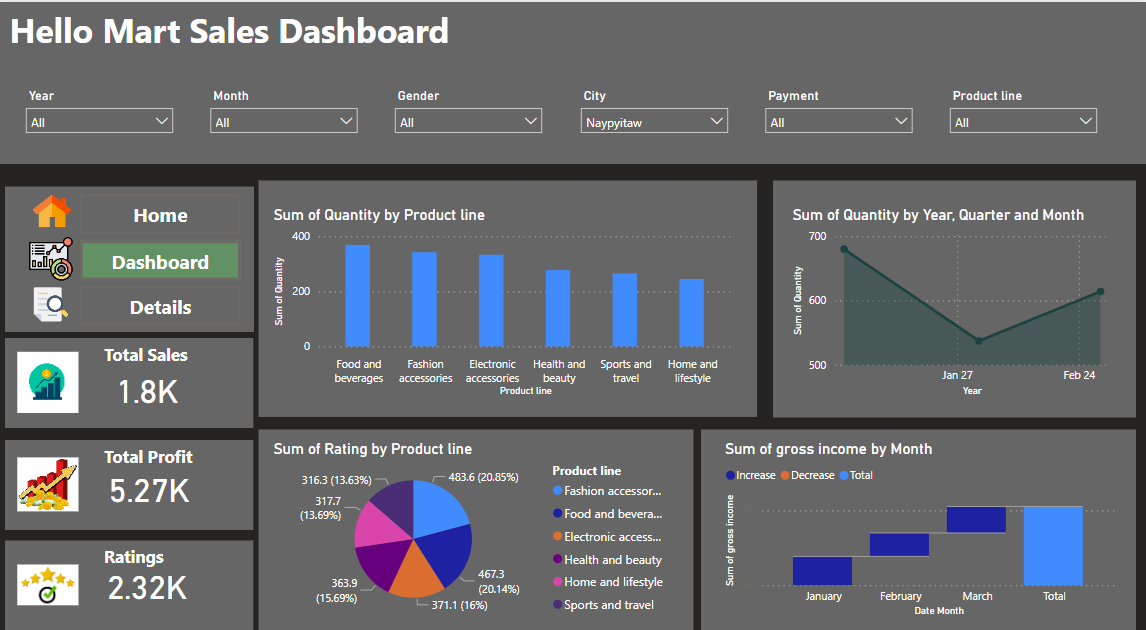

The page's visual inventory and layout, read from the dashboard file:
{"tool":"powerbi","page":{"name":"Page 2","canvas":[1280,720],"ordinal":1},"visuals":[{"type":"shape","box":[0,0,1278.3,163.3],"z":0},{"type":"textbox","box":[0,0,514,64.3],"z":1000},{"type":"shape","box":[0,173.3,286.7,145],"z":2000},{"type":"shape","box":[10,351.7,275,105],"z":3000},{"type":"shape","box":[9.4,589.6,275.9,103.9],"z":4000},{"type":"shape","box":[9.4,459.2,275.9,103.9],"z":5000},{"type":"shape","box":[901.7,200,363.3,311.7],"z":6000},{"type":"shape","box":[311.8,521.6,455.4,156.9],"z":7000},{"type":"shape","box":[782.4,521.6,483.8,156.9],"z":8000},{"type":"map","fields":{"Category":["supermarket_sales.City"]},"box":[903.3,190,363.3,321.7],"z":9000},{"type":"shape","box":[305,175,585,335],"z":10000},{"type":"shape","box":[311.7,521.7,455,198.3],"z":10000},{"type":"slicer","fields":{"Values":["supermarket_sales.Date.Variation.Date Hierarchy.Month"]},"box":[237.1,80,159.1,58.3],"z":11000},{"type":"actionButton","box":[55,175,220,50],"z":12000},{"type":"slicer","fields":{"Values":["supermarket_sales.Date.Variation.Date Hierarchy.Year"]},"box":[49.8,80,159.1,58.3],"z":13000},{"type":"actionButton","box":[55,225,220,55],"z":13000},{"type":"slicer","fields":{"Values":["supermarket_sales.Gender"]},"box":[424.4,81.7,159.1,58.3],"z":14000},{"type":"actionButton","box":[55,280,220,40],"z":14000},{"type":"slicer","fields":{"Values":["supermarket_sales.City"]},"box":[626.7,81.7,159.1,58.3],"z":15000},{"type":"slicer","fields":{"Values":["supermarket_sales.Payment"]},"box":[812.3,80,159.1,58.3],"z":16000},{"type":"slicer","fields":{"Values":["supermarket_sales.Product line","supermarket_sales.gross income"]},"box":[1007.9,80,232.1,58.3],"z":17000},{"type":"image","box":[0,160,55,70],"z":17005}]}

Visuals, with their boxes in screenshot pixels (x1, y1, x2, y2), scaled from the page's 1280x720 canvas onto the 1146x630 screenshot:
shape: box(0, 0, 1144, 143)
textbox: box(0, 0, 460, 56)
shape: box(0, 152, 257, 279)
shape: box(9, 308, 255, 400)
shape: box(8, 516, 255, 607)
shape: box(8, 402, 255, 493)
shape: box(807, 175, 1133, 448)
shape: box(279, 456, 687, 594)
shape: box(700, 456, 1134, 594)
map - supermarket_sales.City: box(809, 166, 1134, 448)
shape: box(273, 153, 797, 446)
shape: box(279, 456, 686, 629)
slicer - supermarket_sales.Date.Variation.Date Hierarchy.Month: box(212, 70, 355, 121)
actionButton: box(49, 153, 246, 197)
slicer - supermarket_sales.Date.Variation.Date Hierarchy.Year: box(45, 70, 187, 121)
actionButton: box(49, 197, 246, 245)
slicer - supermarket_sales.Gender: box(380, 71, 522, 122)
actionButton: box(49, 245, 246, 280)
slicer - supermarket_sales.City: box(561, 71, 704, 122)
slicer - supermarket_sales.Payment: box(727, 70, 870, 121)
slicer - supermarket_sales.Product line x supermarket_sales.gross income: box(902, 70, 1110, 121)
image: box(0, 140, 49, 201)
